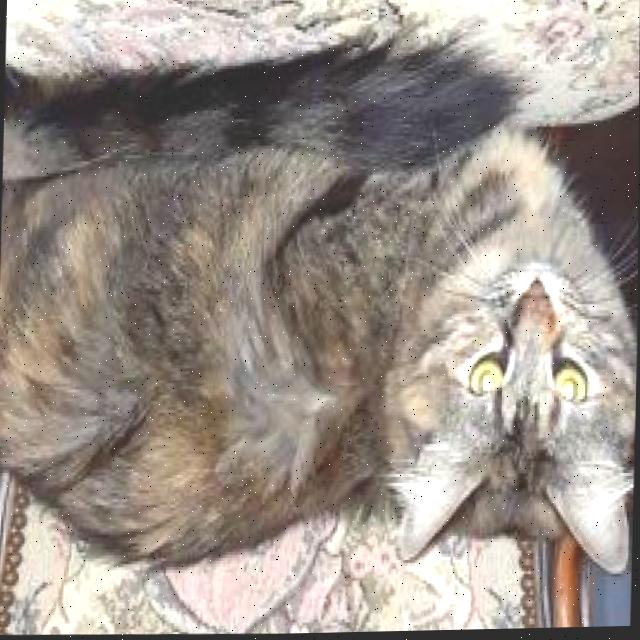Maine Coon: (0, 31, 640, 595)
